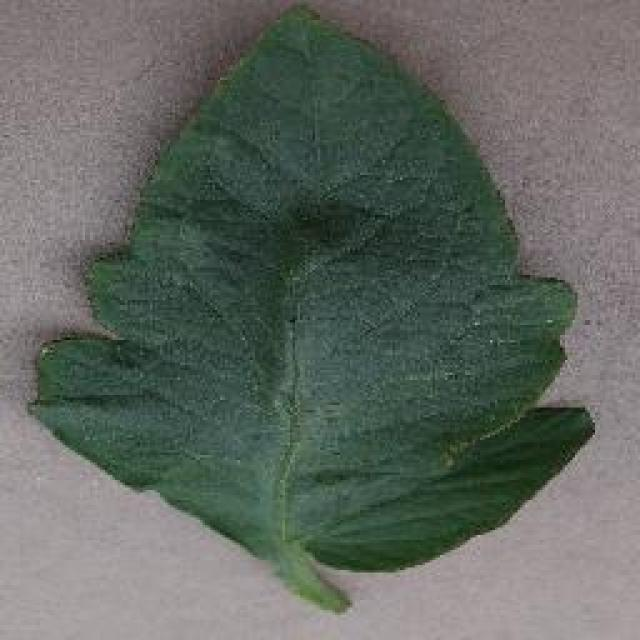Tomato___Bacterial_spot: (23, 2, 602, 620)
